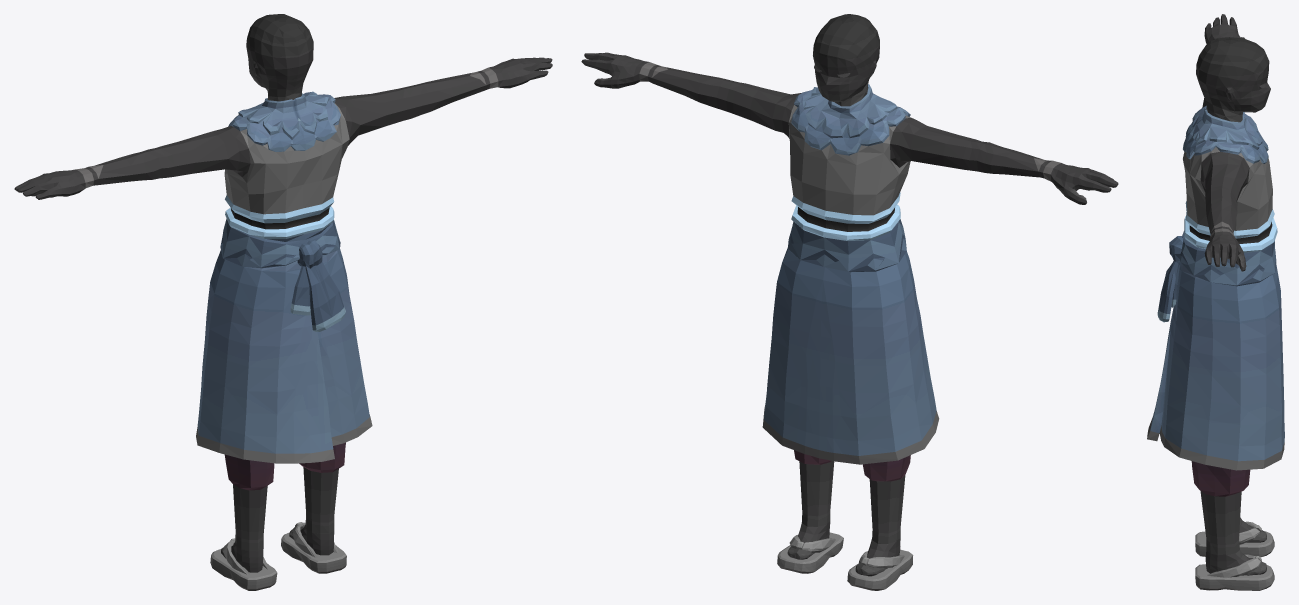
File: NPC_AP23CellistBasic.glb
3 views of the same model, side by side, from view 1: azimuth 30°, elevation 25°; view 2: azimuth 150°, elevation 25°; view 3: azimuth 270°, elevation 25° (orthographic). The views are drawn at different scales.
Visible parts, largest first — view 1: NPC_AP23CellistBasic; view 2: NPC_AP23CellistBasic; view 3: NPC_AP23CellistBasic.
Boxes of the visible parts, <box> form: NPC_AP23CellistBasic: <box>14,14,552,590</box>; NPC_AP23CellistBasic: <box>581,14,1118,590</box>; NPC_AP23CellistBasic: <box>1147,14,1284,590</box>.
Bounding box in the file's own units: 14.21 × 13.97 × 3.31.
1 material, 1 textured.
